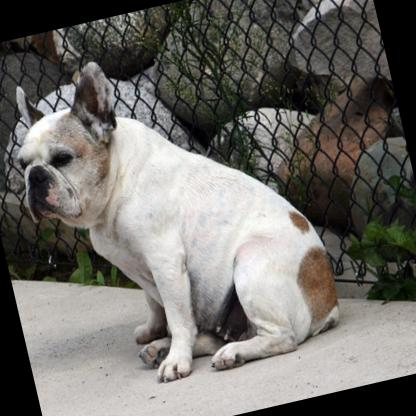French_bulldog: (0, 11, 353, 408)
